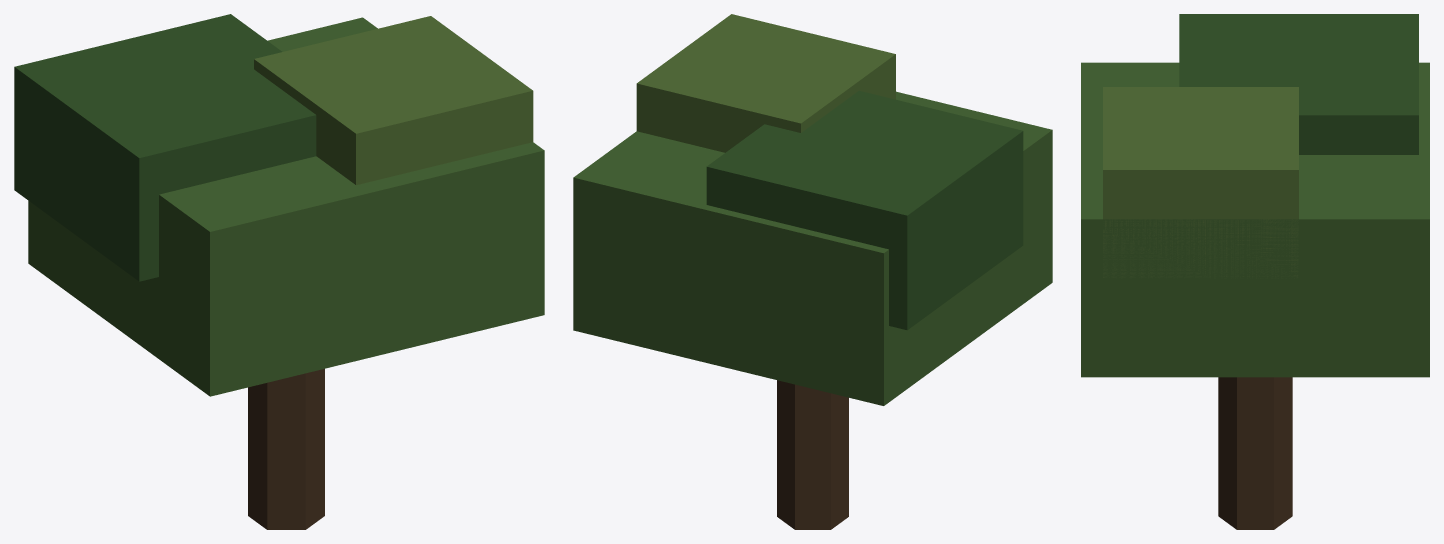
Rendered from tree_broad_a.glb.
The picture shows the model from 3 angles, left to right: view 1: azimuth 30°, elevation 25°; view 2: azimuth 150°, elevation 25°; view 3: azimuth 270°, elevation 25°; orthographic projection. The views are drawn at different scales.
Visible parts, largest first — view 1: Cube, Cube.001, Cube.002, Cylinder; view 2: Cube, Cube.001, Cube.002, Cylinder; view 3: Cube, Cube.002, Cube.001, Cylinder.
Part boxes in pixels (left/top/right/bottom): Cube: left=28, top=17, right=544, bottom=396; Cube.001: left=14, top=14, right=316, bottom=281; Cube.002: left=254, top=16, right=533, bottom=185; Cylinder: left=248, top=368, right=324, bottom=529; Cube: left=573, top=91, right=1052, bottom=405; Cube.001: left=706, top=90, right=1023, bottom=330; Cube.002: left=636, top=14, right=895, bottom=152; Cylinder: left=777, top=380, right=848, bottom=529; Cube: left=1081, top=62, right=1429, bottom=377; Cube.002: left=1103, top=87, right=1298, bottom=278; Cube.001: left=1179, top=14, right=1418, bottom=154; Cylinder: left=1218, top=377, right=1292, bottom=529.
Bounding box in the file's own units: 36 × 43 × 32.
